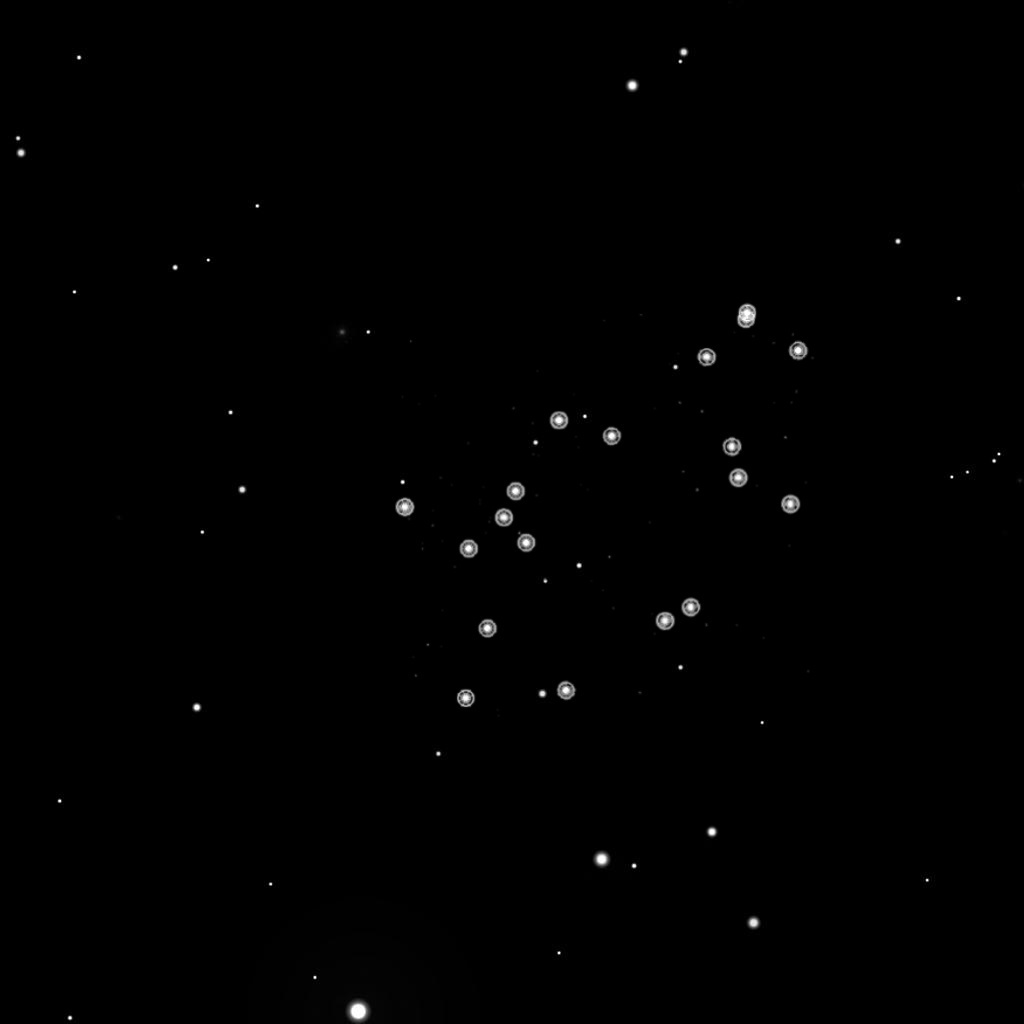canis_major: (447, 403, 623, 567)
